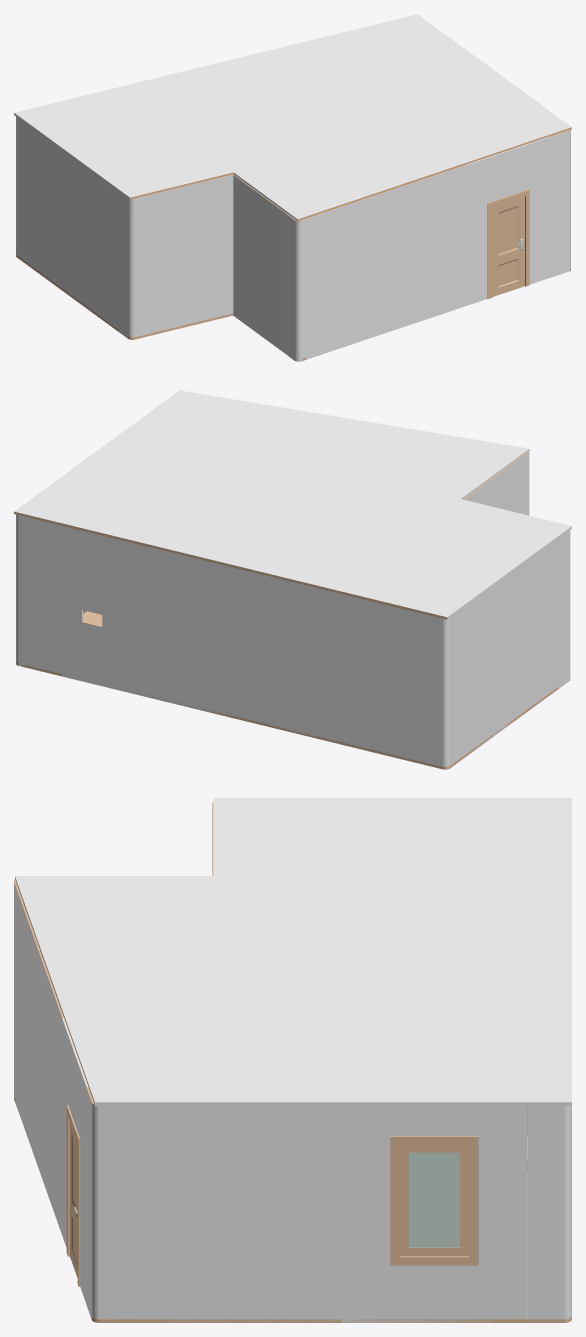
File: room 2.fbx
The picture shows the model from 3 angles, top to bottom: view 1: azimuth 30°, elevation 25°; view 2: azimuth 150°, elevation 25°; view 3: azimuth 270°, elevation 25°; orthographic projection. The views are drawn at different scales.
Parts seen in each view (by area): view 1: Ceiling, walls.003, walls.006, walls.005, walls.004, wallDoorway, doorway.002, walls; view 2: Ceiling, walls.009, walls.006, walls.004, walls; view 3: Ceiling, walls.002, walls.003, wallDoorway, walls, doorway.002.
Boxes of the visible parts, bbox=[...] form: Ceiling: bbox=[14, 14, 571, 221]; walls.003: bbox=[299, 130, 568, 359]; walls.006: bbox=[16, 117, 128, 338]; walls.005: bbox=[133, 174, 233, 336]; walls.004: bbox=[233, 174, 295, 360]; wallDoorway: bbox=[465, 136, 550, 305]; doorway.002: bbox=[490, 193, 527, 298]; walls: bbox=[128, 130, 570, 361]; Ceiling: bbox=[14, 390, 571, 619]; walls.009: bbox=[18, 515, 442, 766]; walls.006: bbox=[448, 530, 569, 766]; walls.004: bbox=[463, 452, 528, 515]; walls: bbox=[16, 451, 570, 766]; Ceiling: bbox=[15, 798, 571, 1105]; walls.002: bbox=[93, 1103, 563, 1322]; walls.003: bbox=[14, 880, 93, 1318]; wallDoorway: bbox=[62, 1017, 88, 1303]; walls: bbox=[91, 1102, 571, 1319]; doorway.002: bbox=[67, 1112, 78, 1285].
Size of the model in its own units: 902 by 304 by 697.
